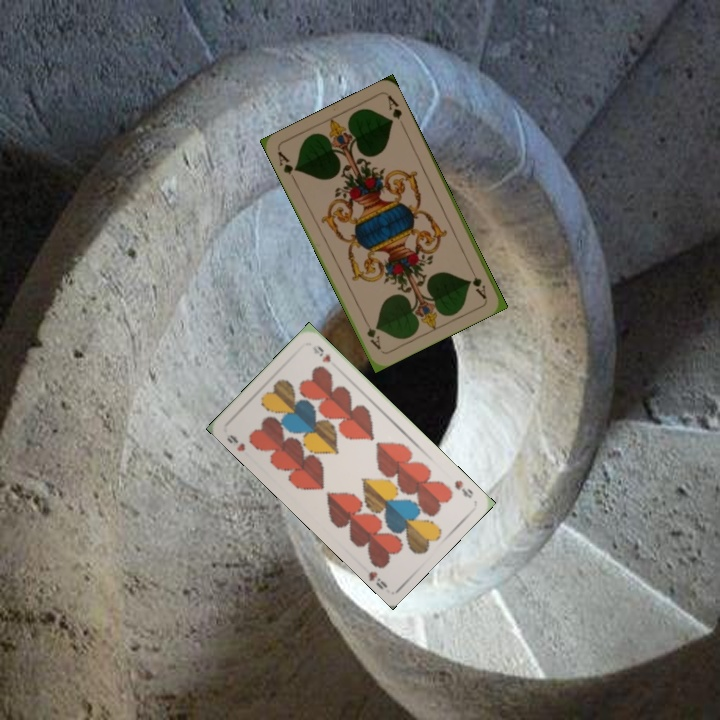GA: (273, 147, 301, 185), (466, 262, 489, 301)
H9: (450, 476, 476, 501), (222, 430, 248, 454)
